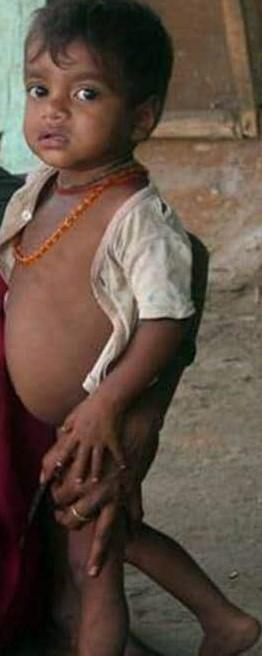Stunting: (2, 20, 173, 208)
